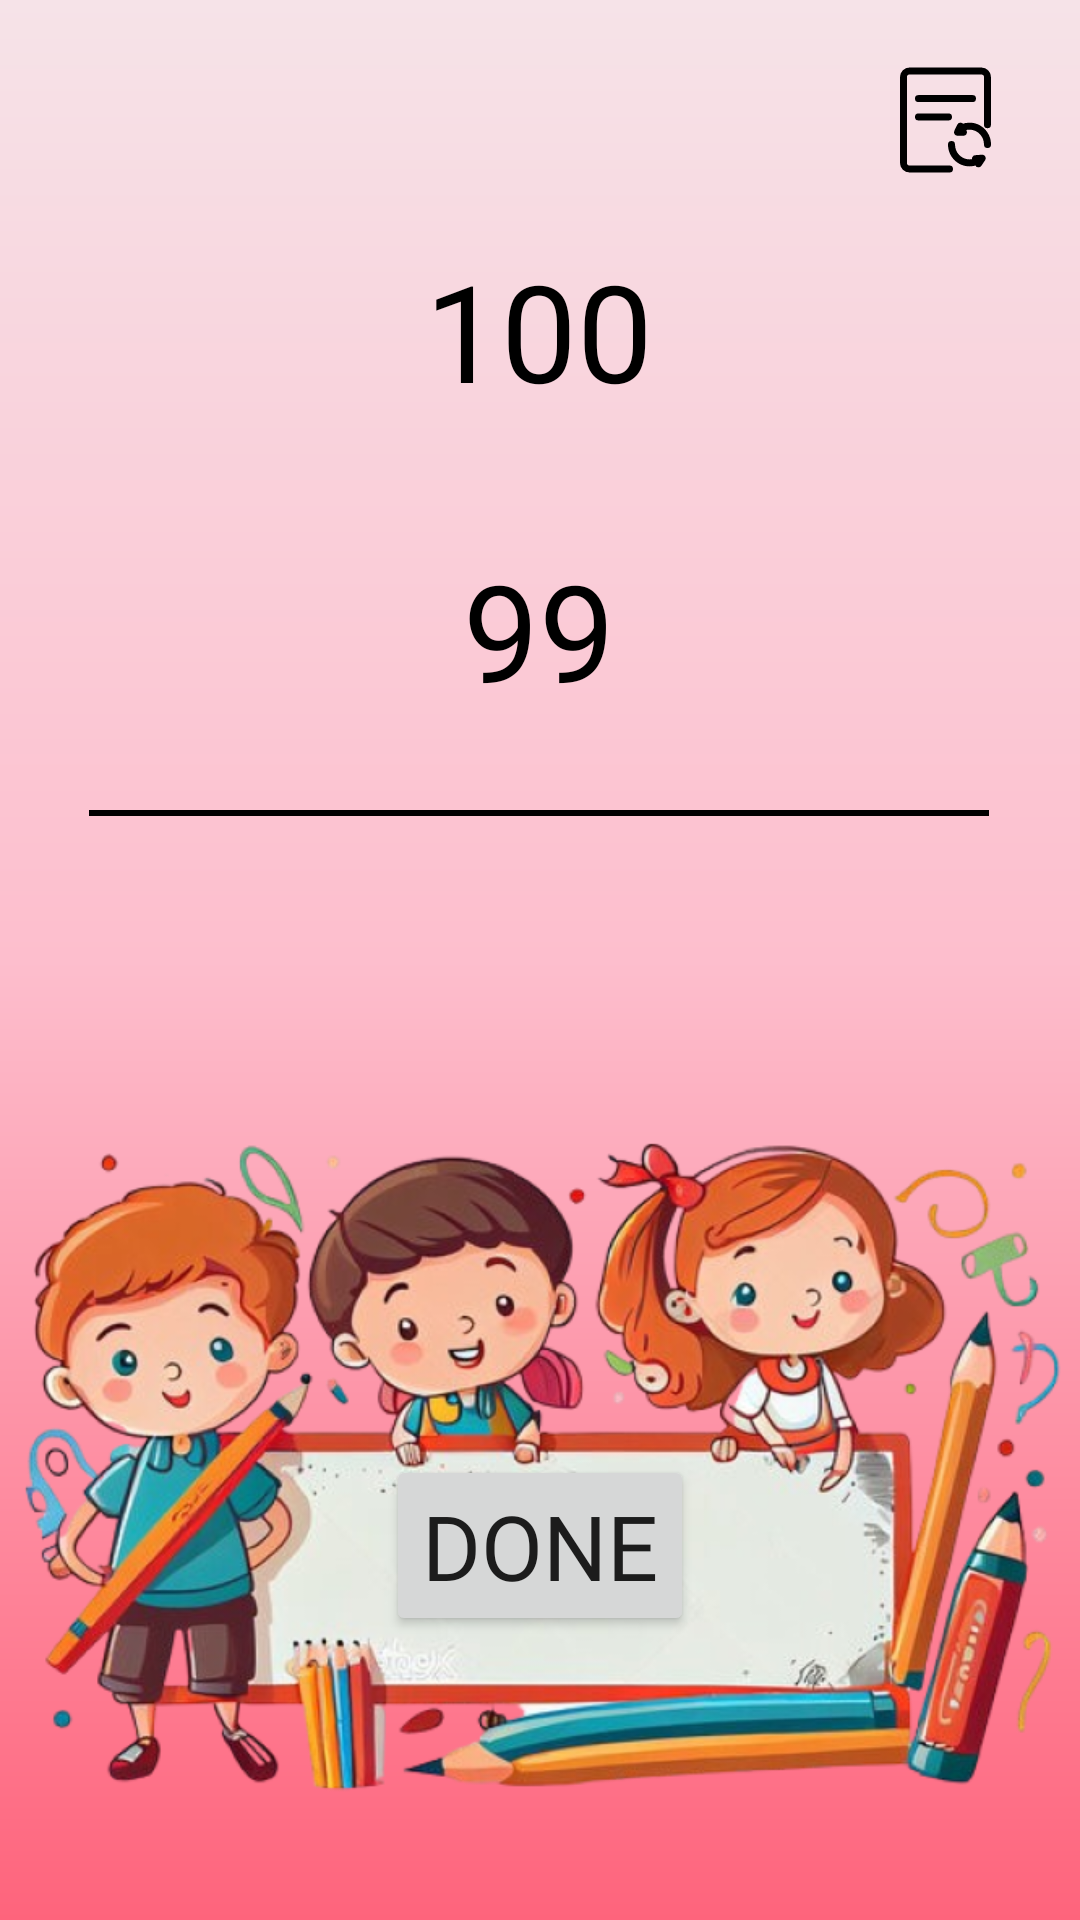

Screen size 1080px×1920px. Icon name, then its box in pixels as (x1, y1, x2, y2):
change ques: (900, 67, 991, 173)
